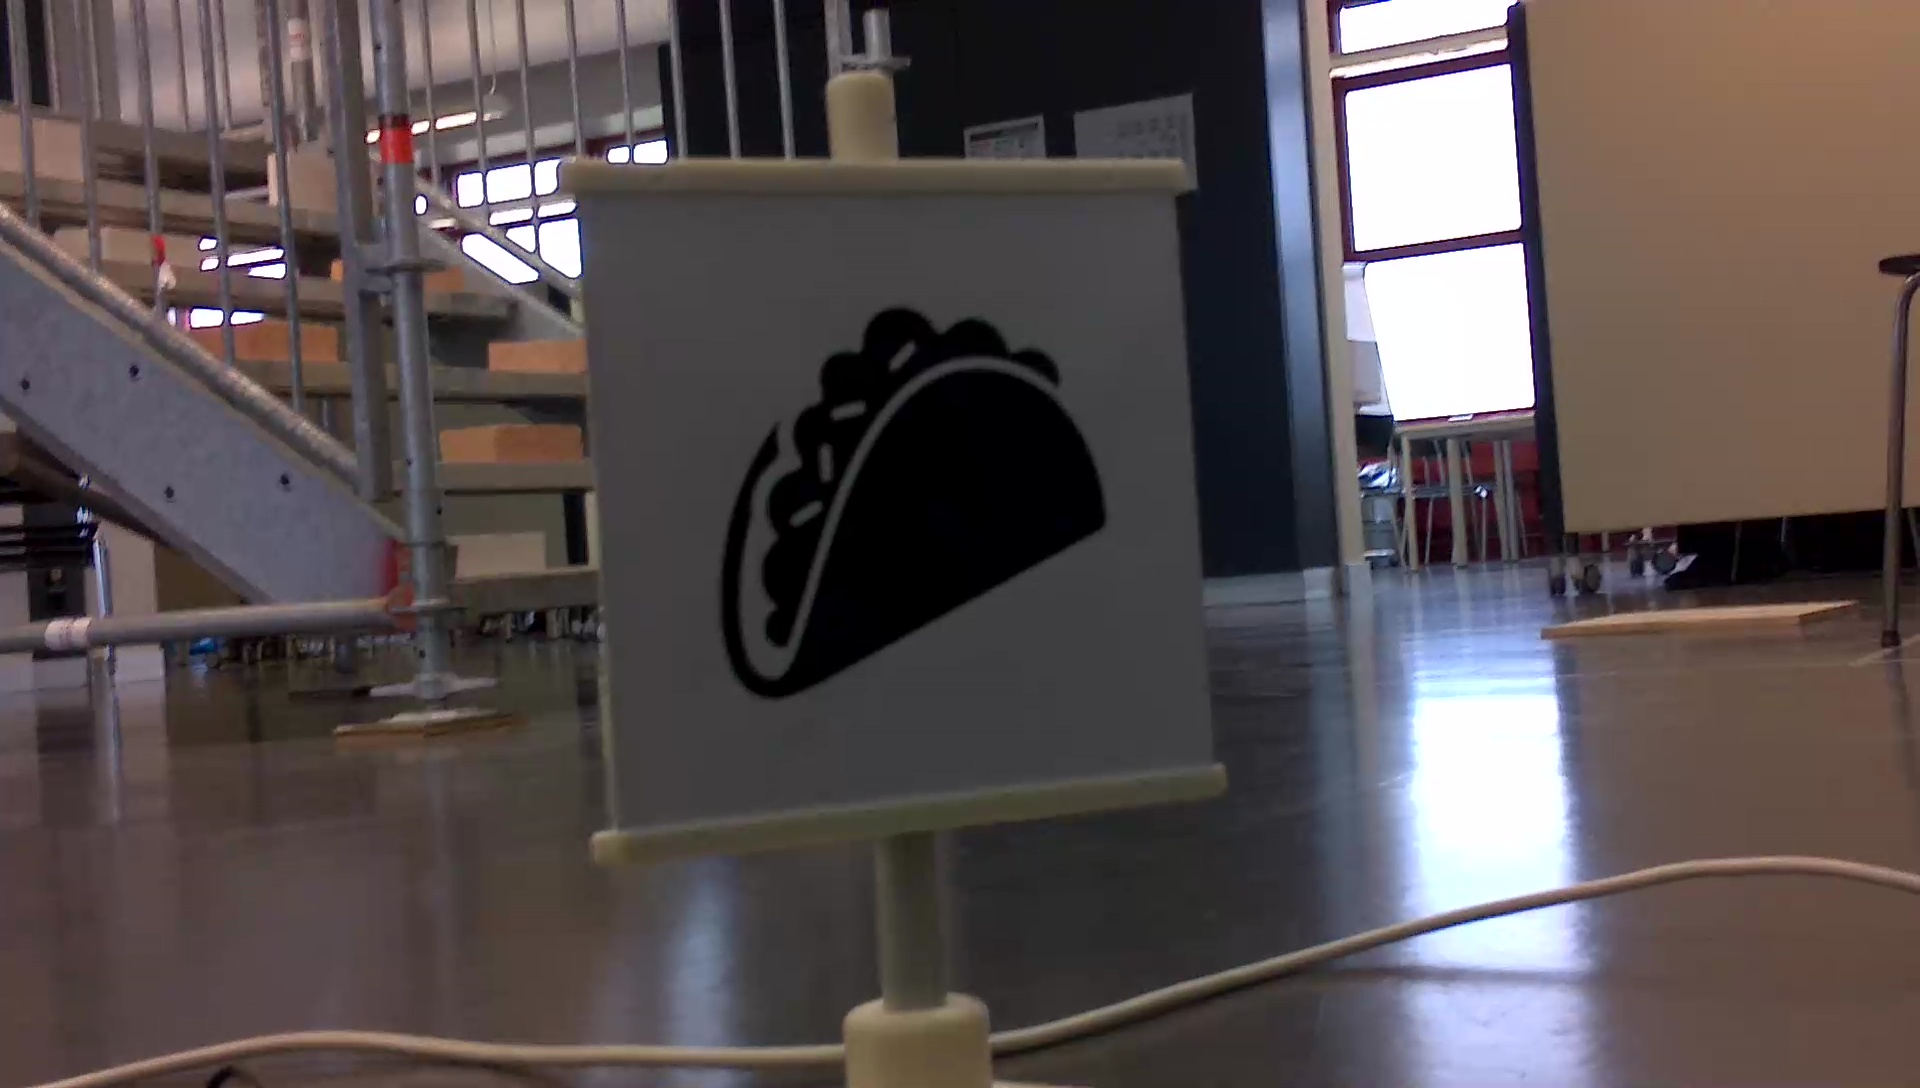brick: (439, 425, 578, 466), (455, 530, 542, 575), (488, 340, 583, 371)
taco: (702, 290, 1127, 710)
